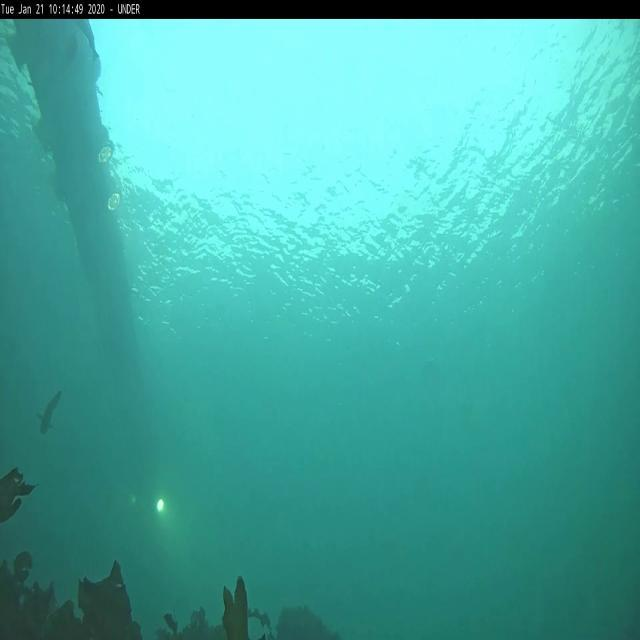fish: (74, 19, 98, 62), (40, 392, 62, 432)
